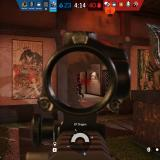Character: (75, 78, 84, 99)
Head: (76, 78, 79, 81)
